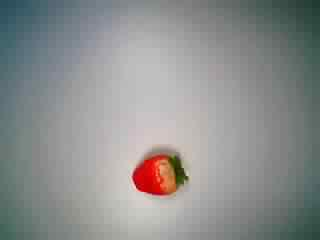strawberry: (125, 141, 191, 203)
